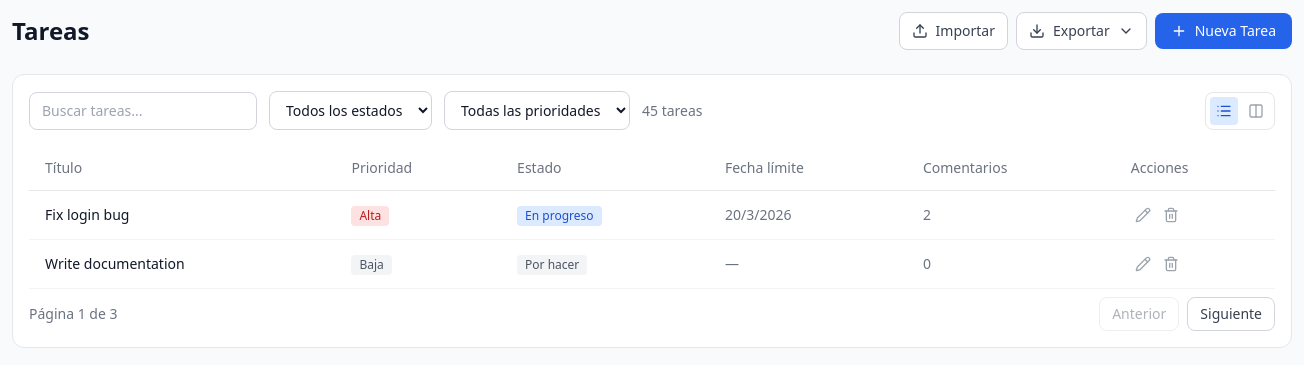
Scenario: TasksPage › no muestra controles de paginación en vista Kanban
Click the button named "Vista kanban".
click(1256, 110)  # box 1242,96 -> 1270,124
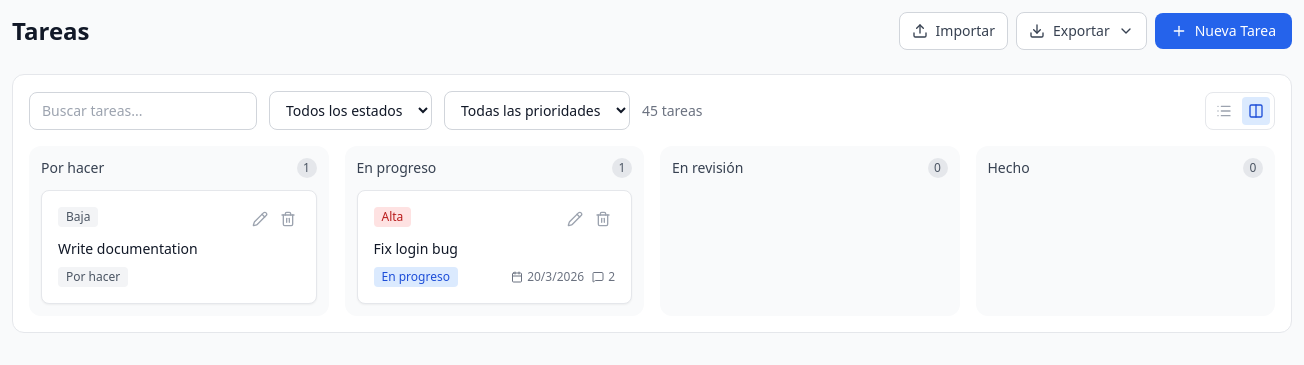
Expected: the text "Página 1 de 3" is gone
